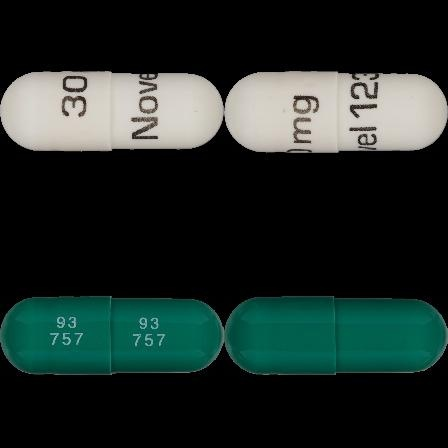21695-283: (0, 0, 224, 224)
